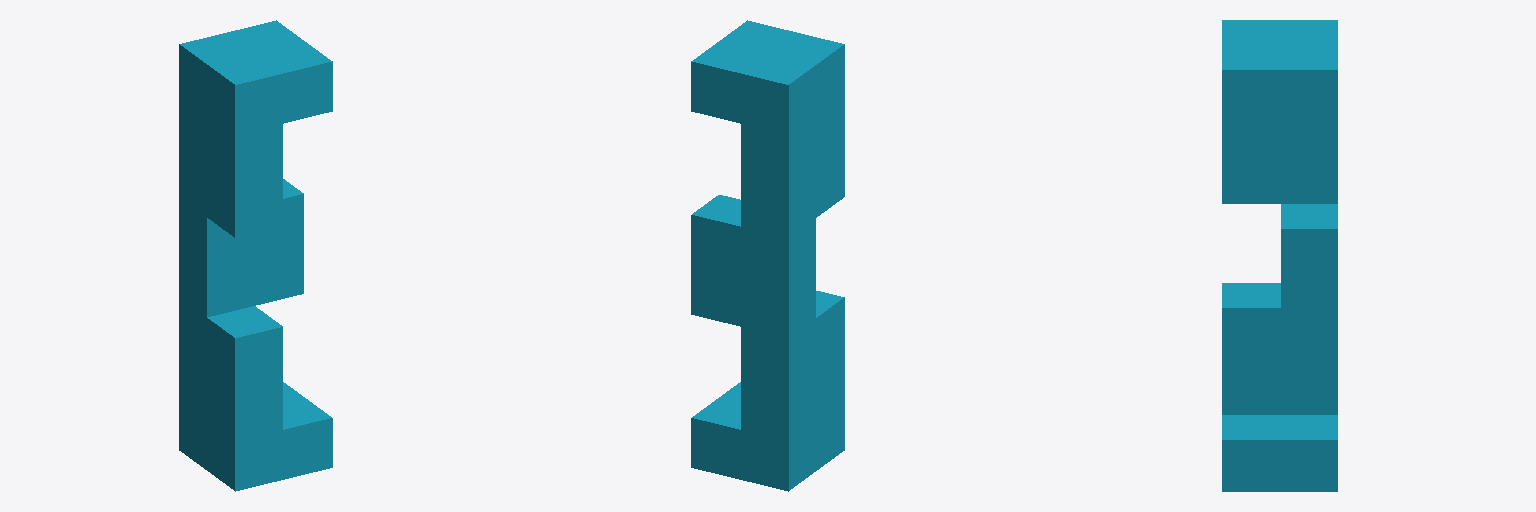
robot.urdf — obj_6:
<robot name="obj_6" version="1.0">
  <link name="obj_6">
    <collision name="interlocking-puzzle-3-2-collision.001">
      <origin rpy="-1.57080 -0.00000 -1.57080" xyz="-0.53530 0.49373 0.12163"/>
      <geometry>
        <mesh filename="../meshes/obj/Cube.009.obj" scale="2.08149 2.09740 2.06120"/>
      </geometry>
    </collision>
    <collision name="interlocking-puzzle-3-2-collision.002">
      <origin rpy="1.57080 -1.57080 0.00000" xyz="-0.53530 0.53424 0.31789"/>
      <geometry>
        <mesh filename="../meshes/obj/Cube.010.obj" scale="2.09740 2.09740 2.09740"/>
      </geometry>
    </collision>
    <collision name="interlocking-puzzle-3-2-collision.003">
      <origin rpy="1.57080 -1.57080 0.00000" xyz="-0.45664 0.53424 0.31885"/>
      <geometry>
        <mesh filename="../meshes/obj/Cube.011.obj" scale="2.09740 2.09740 2.09740"/>
      </geometry>
    </collision>
    <collision name="interlocking-puzzle-3-2-collision.004">
      <origin rpy="-1.57080 -0.00000 -1.57080" xyz="-0.53530 0.49433 0.51489"/>
      <geometry>
        <mesh filename="../meshes/obj/Cube.012.obj" scale="2.09740 2.07769 2.06120"/>
      </geometry>
    </collision>
    <collision name="interlocking-puzzle-3-2-collision.005">
      <origin rpy="-1.57080 1.57080 0.00000" xyz="-0.45664 0.49433 0.59473"/>
      <geometry>
        <mesh filename="../meshes/obj/Cube.013.obj" scale="2.09740 2.09740 2.09740"/>
      </geometry>
    </collision>
    <collision name="interlocking-puzzle-3-2-collision.006">
      <origin rpy="-1.57080 1.57080 0.00000" xyz="-0.45645 0.49433 0.04298"/>
      <geometry>
        <mesh filename="../meshes/obj/Cube.014.obj" scale="2.09740 2.09740 2.09740"/>
      </geometry>
    </collision>
    <inertial>
      <inertia ixx="0.00515" ixy="-0.00000" ixz="0.00000" iyy="0.00517" iyz="0.00000" izz="0.00049"/>
      <origin rpy="0.00000 0.00000 0.00000" xyz="-0.51154 0.50217 0.31885"/>
      <mass value="0.03000"/>
    </inertial>
    <visual name="interlocking-puzzle-3-2">
      <material name="Light Blue"/>
      <origin rpy="1.57080 1.57080 0.00000" xyz="-0.48529 0.49456 0.31885"/>
      <geometry>
        <mesh filename="../meshes/obj/interlocking-puzzle-3.003.obj" scale="0.01049 0.01049 0.01049"/>
      </geometry>
    </visual>
  </link>
  <material name="Light Blue">
    <color rgba="0.15294 0.68627 0.80000 1.00000"/>
  </material>
</robot>

--- Render facts (derived) ---
The picture shows the robot from 3 angles, left to right: view 1: azimuth 30°, elevation 25°; view 2: azimuth 150°, elevation 25°; view 3: azimuth 270°, elevation 25°; orthographic projection.
Robot: obj_6 — 1 links, 0 joints (none); root link obj_6; default pose: every joint at zero.
Visible links, largest first — view 1: obj_6; view 2: obj_6; view 3: obj_6.
Boxes of the visible links, x1,y1,x2,y2 form: obj_6: (179,20,332,491); obj_6: (691,20,844,491); obj_6: (1222,20,1337,491).
Size in the robot's own frame: 0.1574 by 0.1574 by 0.6294 metres.
1 mesh visuals loaded from 1 distinct referenced files (1 OBJ).